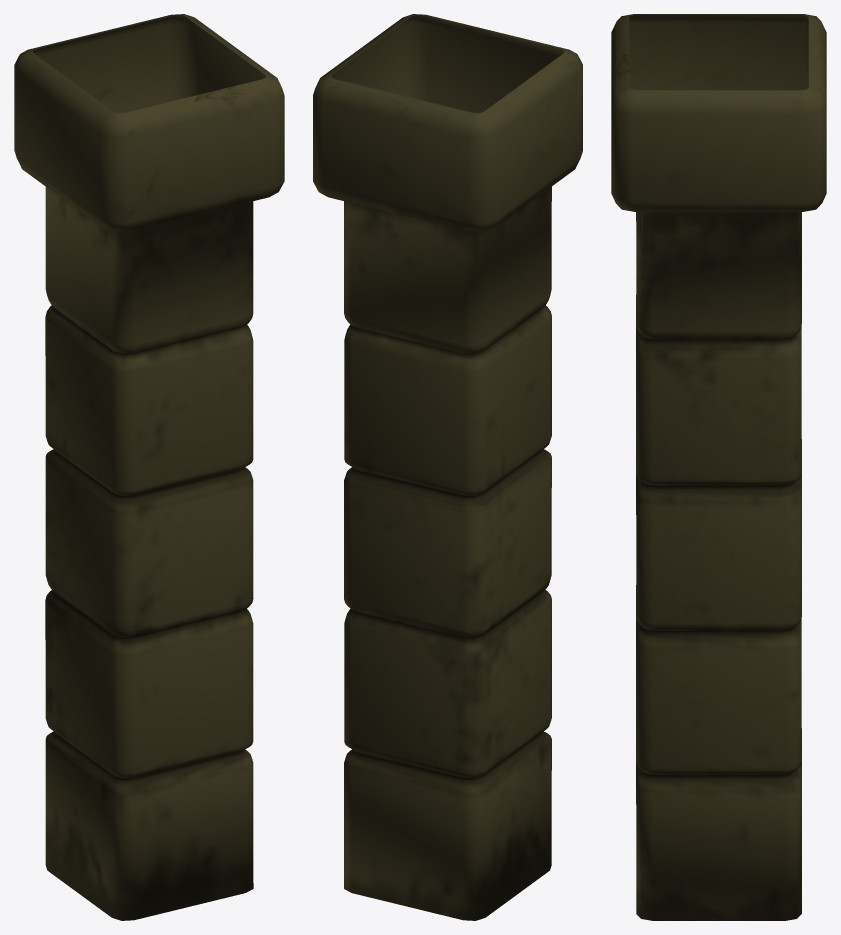
File: Wall_Details.fbx
The picture shows the model from 3 angles, left to right: view 1: azimuth 30°, elevation 25°; view 2: azimuth 150°, elevation 25°; view 3: azimuth 270°, elevation 25°; orthographic projection. The views are drawn at different scales.
Visible parts, largest first — view 1: Wall_Details; view 2: Wall_Details; view 3: Wall_Details.
Part boxes in pixels (left/top/right/bottom): Wall_Details: left=14, top=14, right=284, bottom=920; Wall_Details: left=313, top=14, right=582, bottom=920; Wall_Details: left=611, top=14, right=826, bottom=920.
Size of the model in its own units: 104 by 446 by 104.
Materials: 1 (1 with a texture image).
